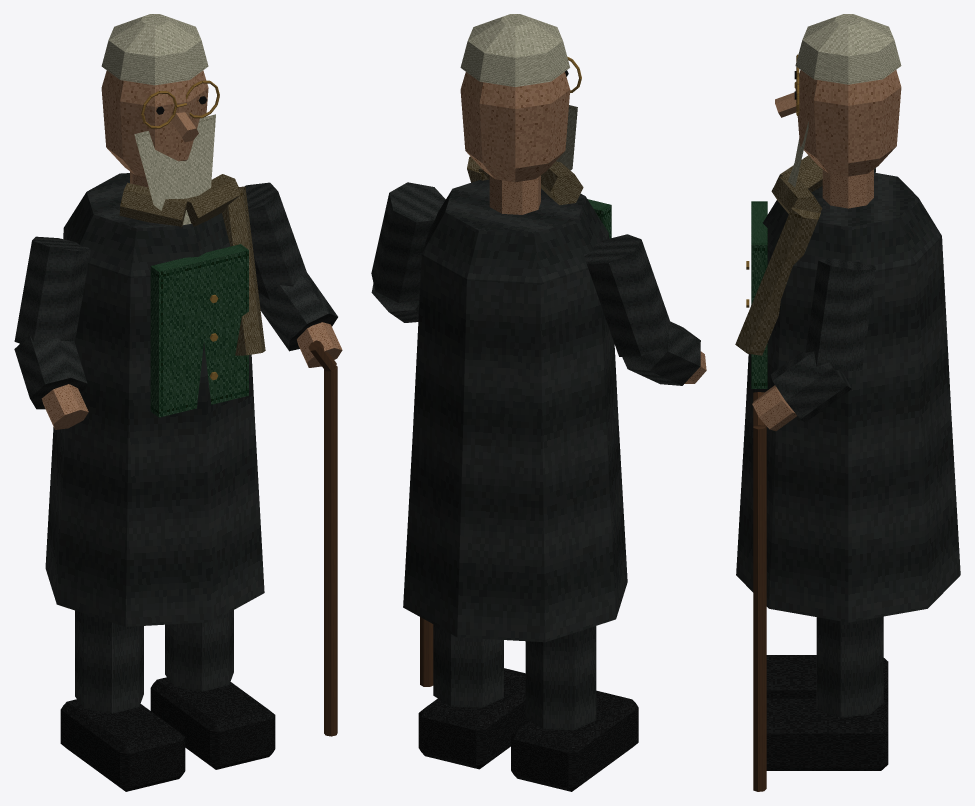
Rendered from level_npc_matthis_rook_proxy.glb.
3 views of the same model, side by side, from view 1: azimuth 30°, elevation 25°; view 2: azimuth 150°, elevation 25°; view 3: azimuth 270°, elevation 25° (orthographic). The views are drawn at different scales.
Parts seen in each view (by area): view 1: level_npc_matthis_rook_proxy; view 2: level_npc_matthis_rook_proxy; view 3: level_npc_matthis_rook_proxy.
Part boxes in pixels (x1=…): level_npc_matthis_rook_proxy: x1=14, y1=14, x2=342, y2=791; level_npc_matthis_rook_proxy: x1=371, y1=14, x2=706, y2=791; level_npc_matthis_rook_proxy: x1=735, y1=14, x2=960, y2=791.
Size of the model in its own units: 0.7443 by 1.69 by 0.4818.
8 materials, 8 textured.
